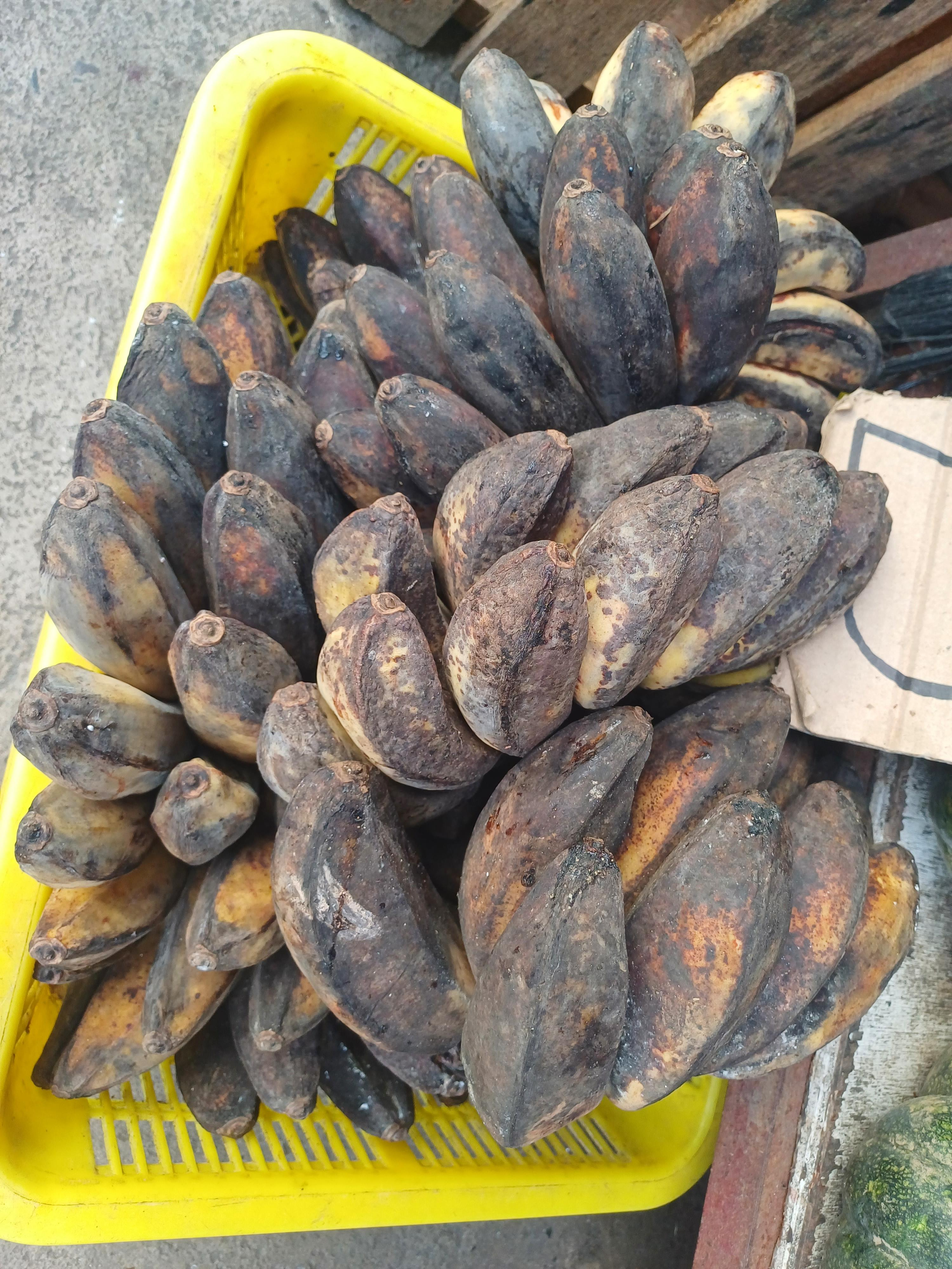overripe: (271, 681, 919, 1147), (11, 274, 376, 1101), (255, 400, 889, 822), (314, 46, 782, 527), (525, 24, 882, 449), (175, 955, 468, 1144), (267, 155, 487, 327)
